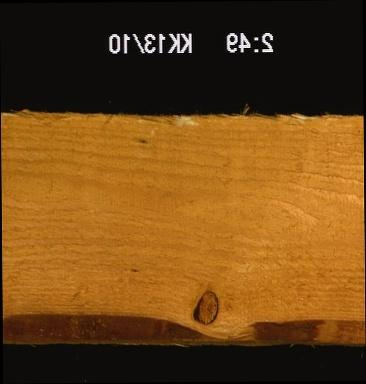dry_knot: (191, 287, 220, 325)
wave: (4, 299, 212, 346), (228, 313, 364, 343)
